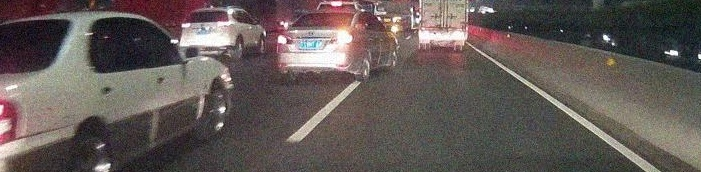L_light: (278, 34, 293, 44), (181, 23, 191, 27)
R_light: (335, 34, 353, 43), (218, 21, 231, 27)
T_light: (326, 12, 336, 16), (207, 9, 216, 12)
night-brake: (277, 9, 363, 85)
night-no: (180, 6, 235, 63)
